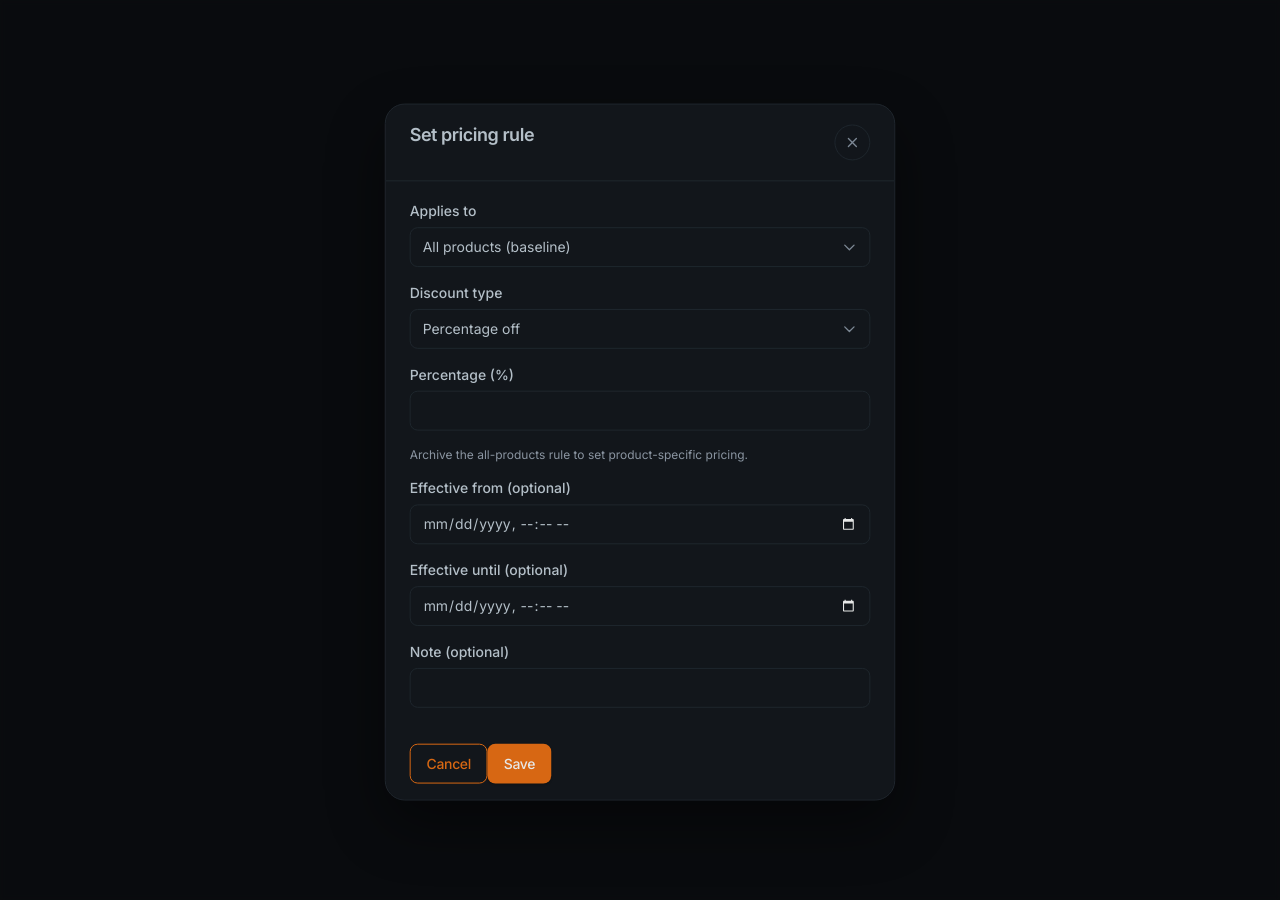
Test case: SetPricingRuleModal › grays out (disables) product-specific targets when a baseline rule is active
Click the button "All products (baseline)".
click(497, 246)  # box x1=410 y1=227 x2=870 y2=267
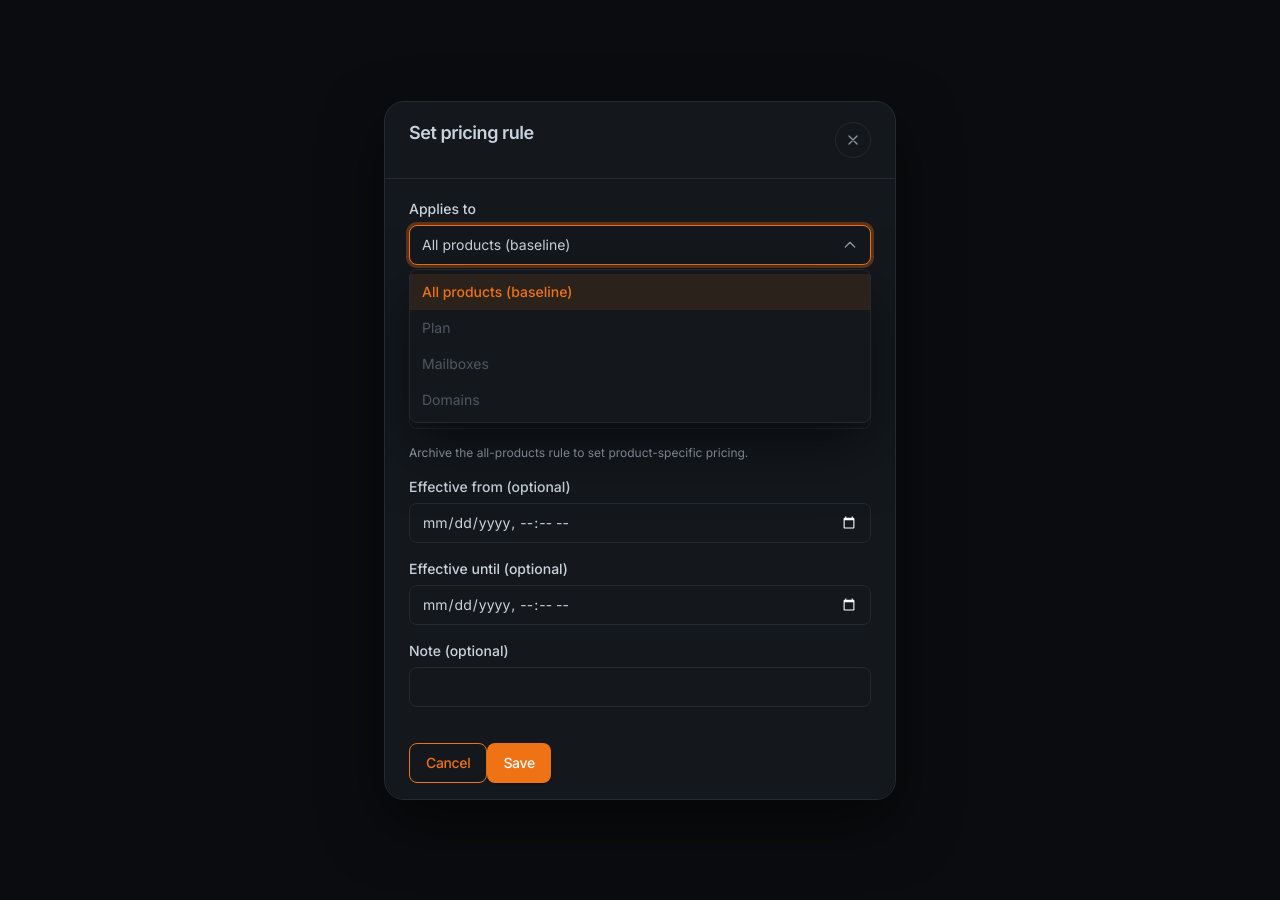
expect the option "All products (baseline)" is enabled: met, box x1=410 y1=274 x2=870 y2=310
expect the option "Plan" is disabled: met, box x1=410 y1=310 x2=870 y2=346
expect the option "Domains" is disabled: met, box x1=410 y1=382 x2=870 y2=418
